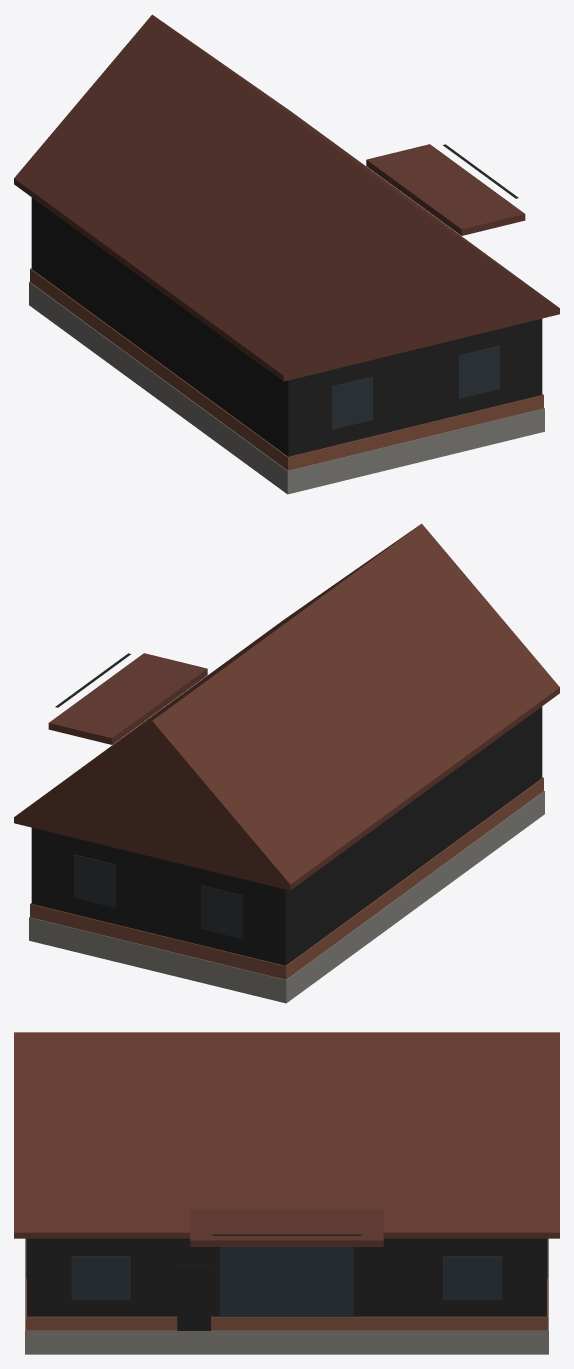
File: SM_Prop_cafe_building_11_LOD2.glb
3 views of the same model, one above another, from view 1: azimuth 30°, elevation 25°; view 2: azimuth 150°, elevation 25°; view 3: azimuth 270°, elevation 25° (orthographic).
Visible parts, largest first — view 1: SM_Prop_cafe_building_11_LOD2; view 2: SM_Prop_cafe_building_11_LOD2; view 3: SM_Prop_cafe_building_11_LOD2.
Boxes of the visible parts, bbox=[...] form: SM_Prop_cafe_building_11_LOD2: bbox=[14, 14, 559, 494]; SM_Prop_cafe_building_11_LOD2: bbox=[14, 523, 559, 1003]; SM_Prop_cafe_building_11_LOD2: bbox=[14, 1032, 559, 1354].
Size of the model in its own units: 10.5 by 7.68 by 14.7.
